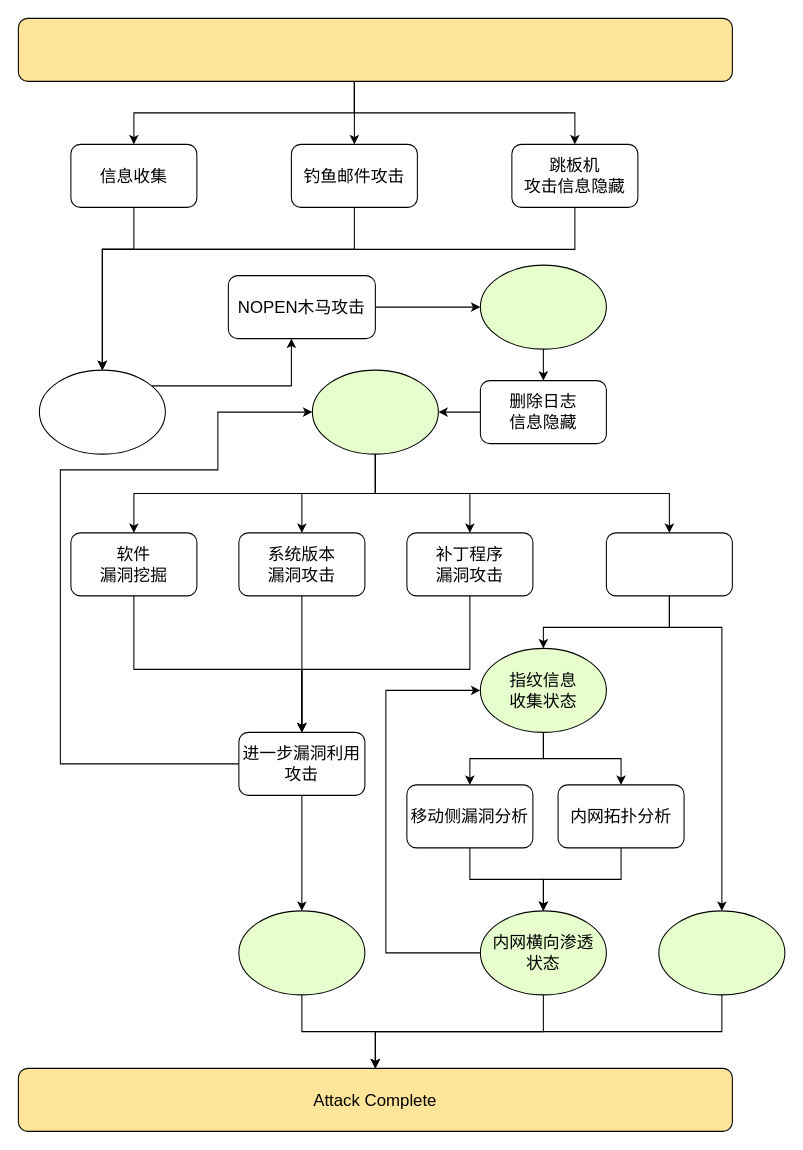
Image size: 803x1150. Some labels were removed from this diagram. Each missing label, with the box of its shape:
Start Attack: (17, 17, 732, 81)
信息再收集: (605, 532, 732, 596)
学校资源信息 收集状态: (658, 910, 785, 995)
攻击信息隐藏 状态: (311, 369, 438, 454)
系统提权控制 状态: (238, 910, 365, 995)
获得普通Shell 状态: (479, 264, 606, 349)
钓鱼成功 状态: (38, 369, 165, 454)
